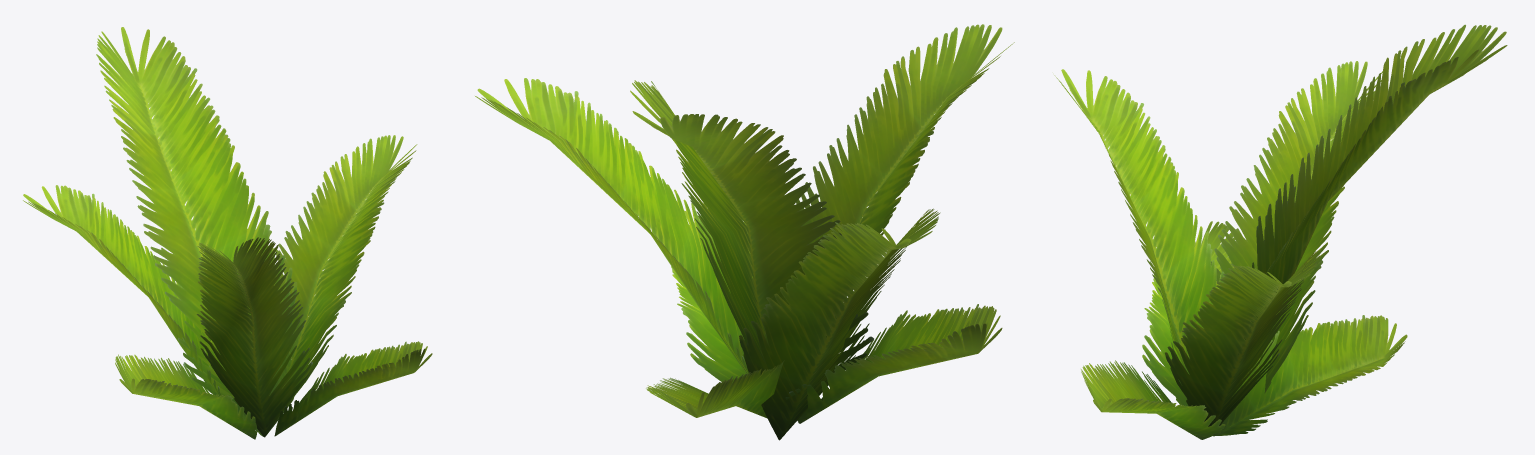
Rendered from SM_Vegetation_01.fbx.
3 views of the same model, side by side, from view 1: azimuth 30°, elevation 25°; view 2: azimuth 150°, elevation 25°; view 3: azimuth 270°, elevation 25° (orthographic). The views are drawn at different scales.
Parts seen in each view (by area): view 1: SM_Vegetation_01_LOD0; view 2: SM_Vegetation_01_LOD0; view 3: SM_Vegetation_01_LOD0.
Part boxes in pixels (box(x1,y1,x2,y2)): SM_Vegetation_01_LOD0: box(23, 27, 432, 439); SM_Vegetation_01_LOD0: box(475, 24, 1014, 440); SM_Vegetation_01_LOD0: box(1054, 24, 1507, 439).
Size of what is drawn, in the model's own units: 3.62 by 3.17 by 3.39.
